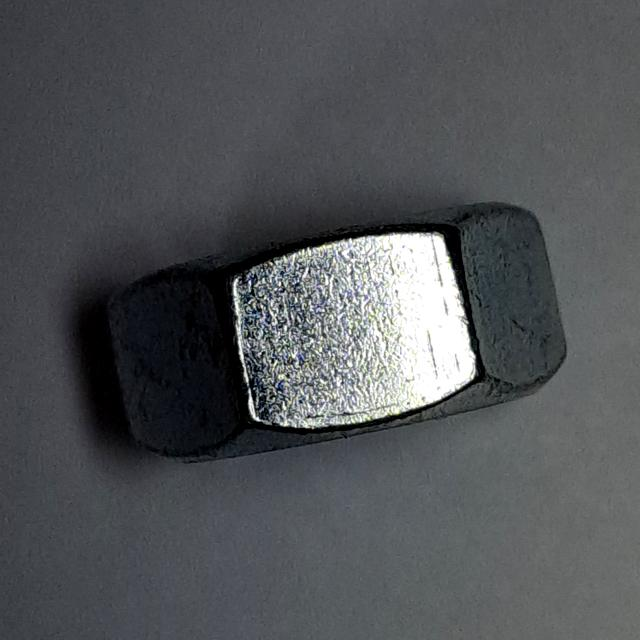Side_Excellent: (94, 188, 581, 483)
